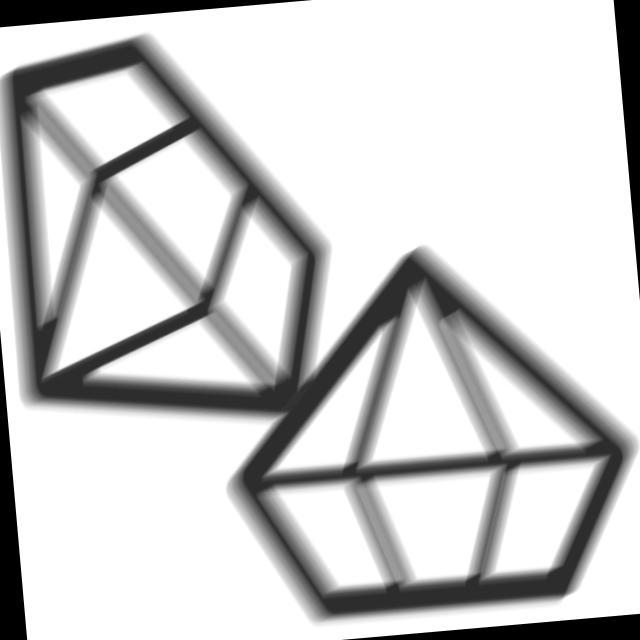diamond: (194, 217, 640, 640), (1, 6, 365, 461)
